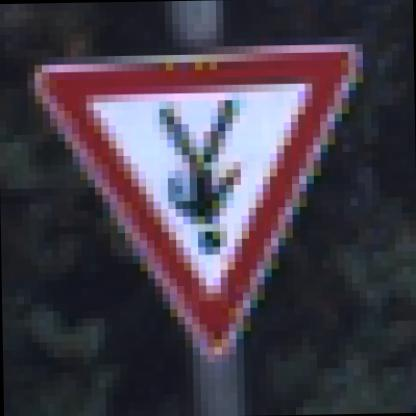crosswalk: (29, 29, 379, 372)
